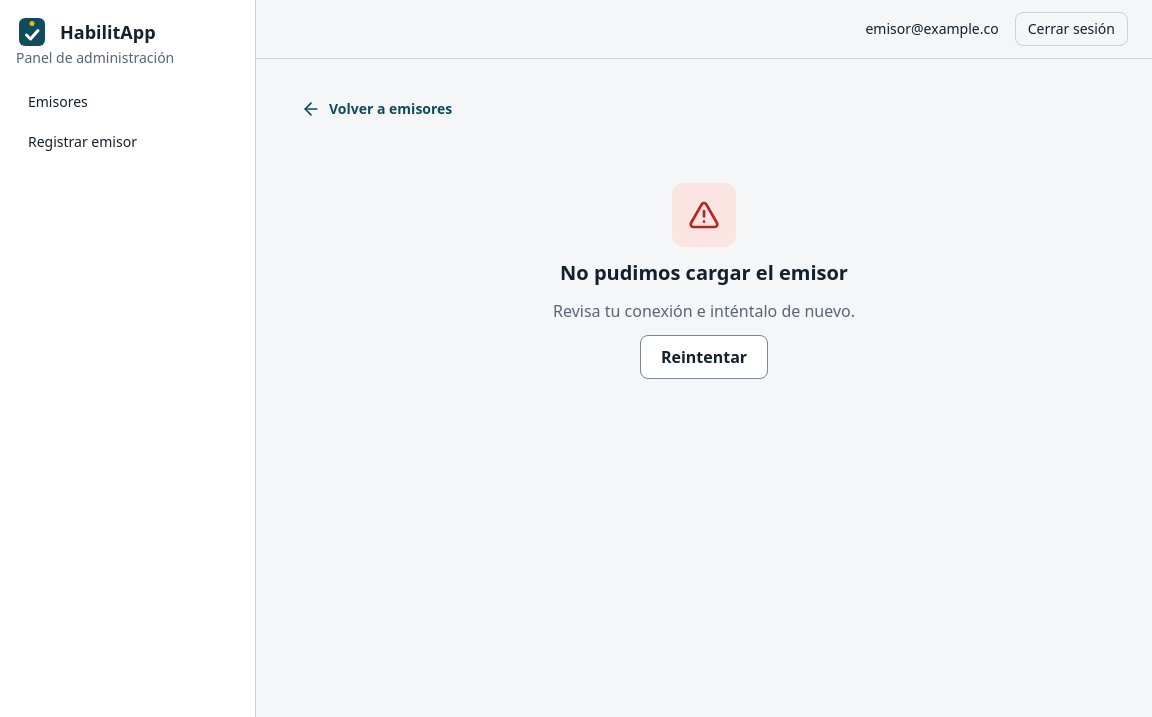
Test: EntityDetailPage › offers to retry when the issuer cannot be loaded
Expected: the heading "No pudimos cargar el emisor" is shown, [560,259,848,287]
Click the button "Reintentar": {"x": 704, "y": 357} [640,335,768,379]
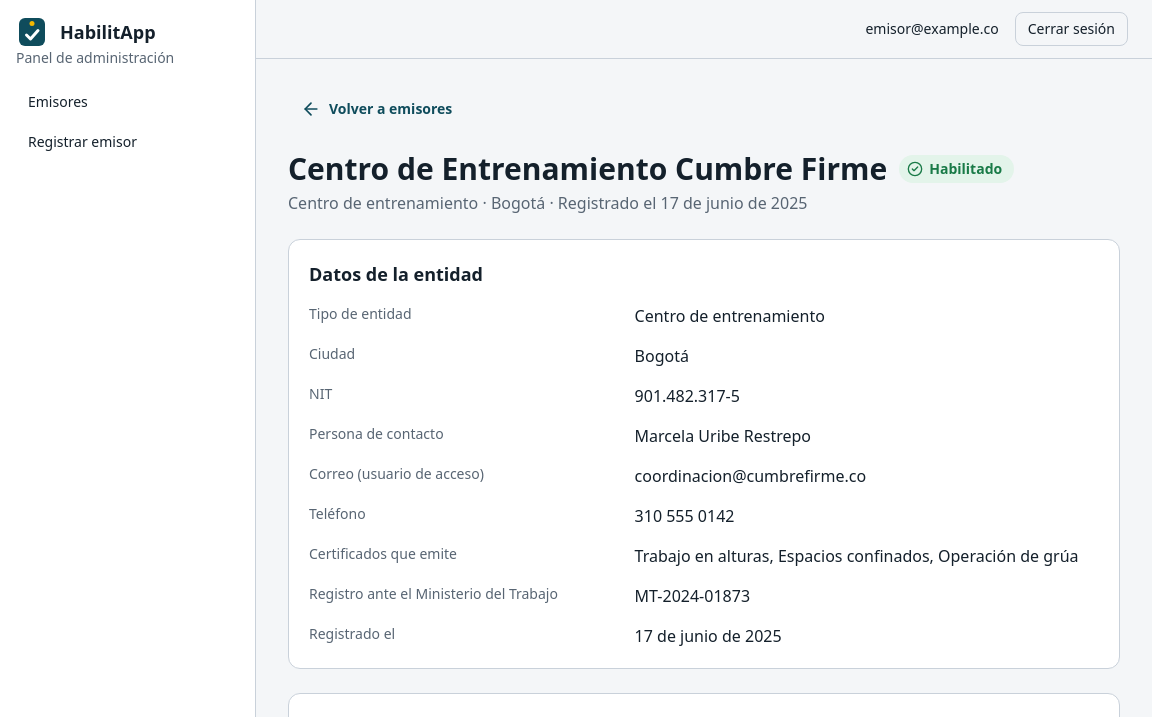
Expected: the heading "Centro de Entrenamiento Cumbre Firme" is shown, [288,151,887,187]
